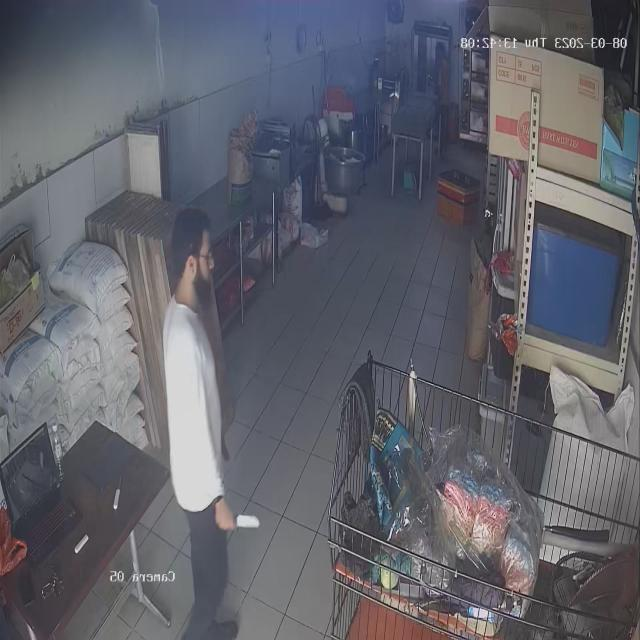Knife: (214, 504, 271, 543)
